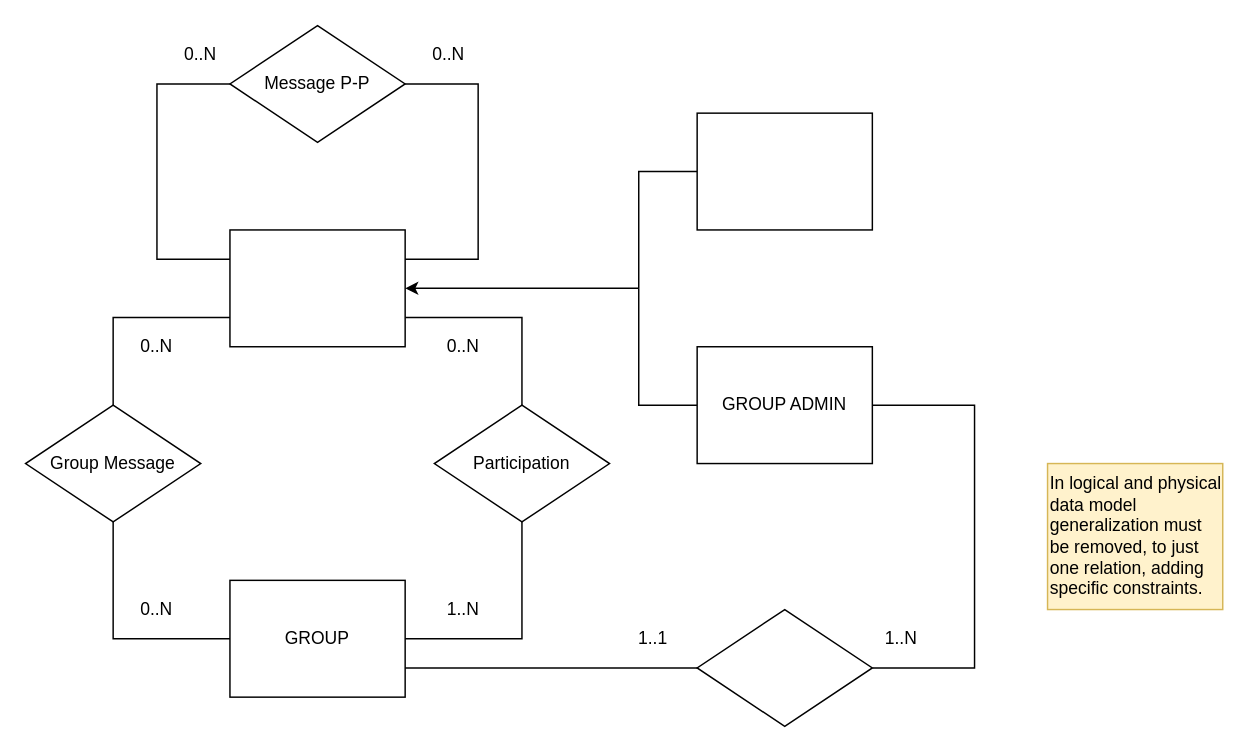
The diagram is 1248 pixels wide and 752 high, and some of its shapes have lost their labels. The shapes that lost their labels are listed below. From the top down, each one's centre as x and y in pixels, then its label:
pixel 784 171: SIMPLE USER
pixel 316 287: USER
pixel 784 667: Administration
